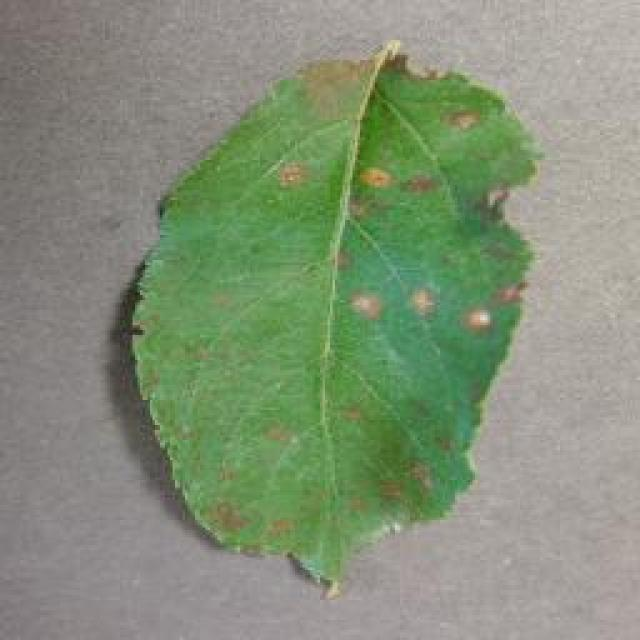apple rust disease: (122, 38, 542, 598)
